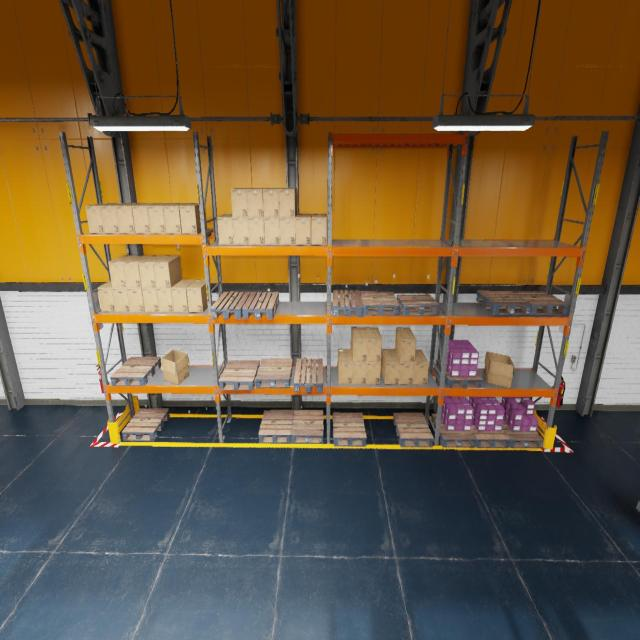box: (484, 352, 514, 388), (161, 349, 189, 385), (153, 255, 182, 288), (108, 255, 137, 288), (138, 255, 166, 288), (123, 255, 151, 288), (100, 204, 130, 234), (85, 204, 115, 234), (179, 204, 207, 234), (116, 204, 144, 234), (147, 204, 174, 234), (132, 204, 159, 234), (171, 279, 195, 312), (163, 204, 189, 234), (395, 327, 416, 362), (186, 279, 208, 312), (395, 349, 414, 385), (381, 349, 400, 385), (364, 327, 382, 362), (413, 349, 429, 385), (337, 348, 353, 384), (98, 280, 116, 312), (351, 327, 367, 362), (247, 188, 266, 217), (231, 188, 250, 217), (295, 214, 312, 245), (217, 214, 234, 245), (279, 188, 297, 217), (262, 188, 280, 217), (311, 214, 327, 245), (248, 217, 265, 245), (264, 217, 280, 245), (233, 217, 249, 245), (156, 288, 174, 312), (112, 288, 130, 312), (127, 287, 144, 312), (280, 217, 295, 245), (142, 288, 159, 312), (366, 362, 381, 384), (352, 362, 367, 384)
pallets: (431, 413, 476, 448), (122, 408, 169, 441), (110, 357, 161, 386), (511, 290, 569, 315), (476, 290, 531, 315), (393, 413, 433, 447), (436, 359, 482, 388), (332, 412, 367, 447), (219, 360, 259, 390), (210, 291, 251, 319), (502, 420, 543, 448), (258, 410, 293, 442), (255, 359, 293, 388), (291, 410, 323, 443), (242, 291, 279, 319), (471, 422, 510, 448), (360, 291, 400, 316), (294, 358, 322, 392), (396, 294, 439, 316), (333, 290, 363, 317)
